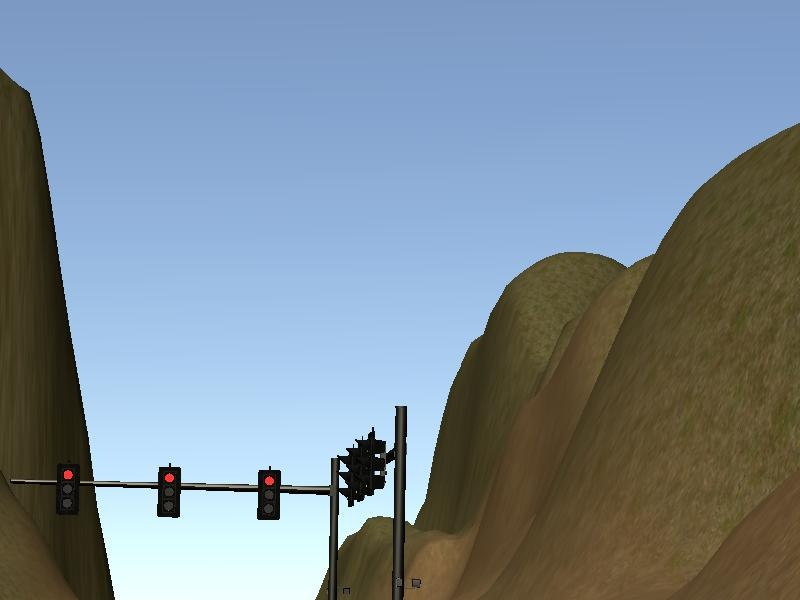red: (255, 467, 282, 524), (156, 466, 183, 523), (54, 462, 81, 519)
